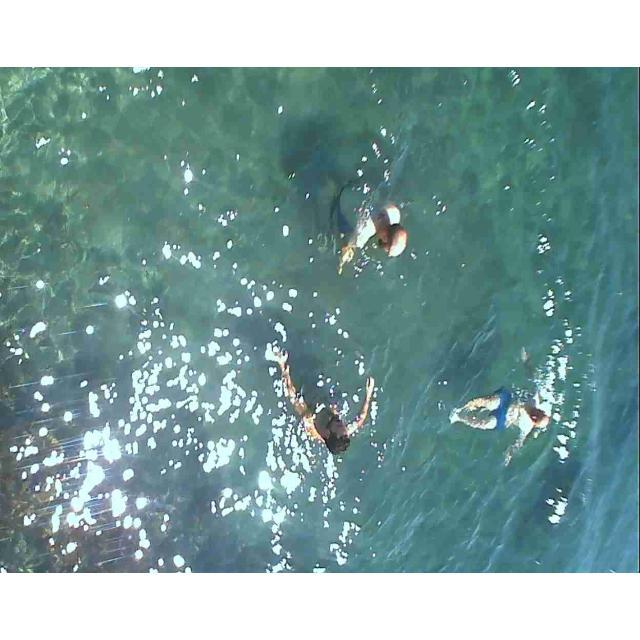human: (278, 345, 377, 456), (462, 372, 569, 458), (323, 177, 417, 274)
